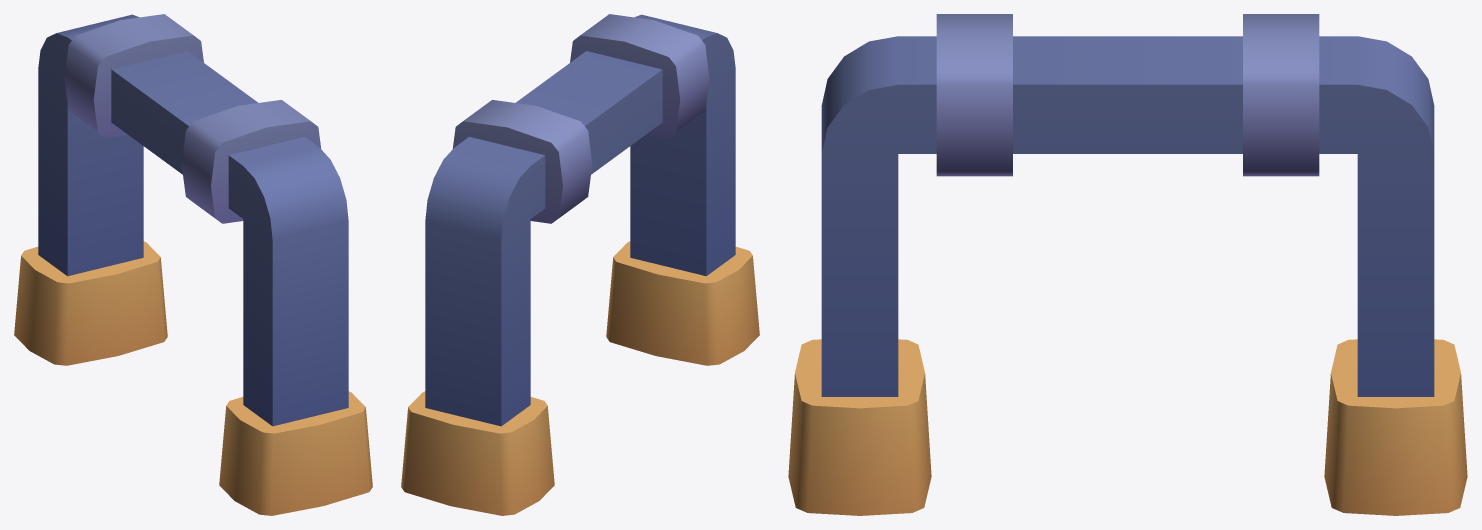
Rendered from scanner-high.glb.
The picture shows the model from 3 angles, left to right: view 1: azimuth 30°, elevation 25°; view 2: azimuth 150°, elevation 25°; view 3: azimuth 270°, elevation 25°; orthographic projection. The views are drawn at different scales.
Visible parts, largest first — view 1: scanner-high; view 2: scanner-high; view 3: scanner-high.
Part boxes in pixels (box(x1,y1,x2,y2)): scanner-high: box(14, 14, 372, 515); scanner-high: box(401, 14, 759, 515); scanner-high: box(788, 14, 1467, 515).
Size of the model in its own units: 0.4841 by 1.27 by 1.77.
Materials: 1 (1 with a texture image).
